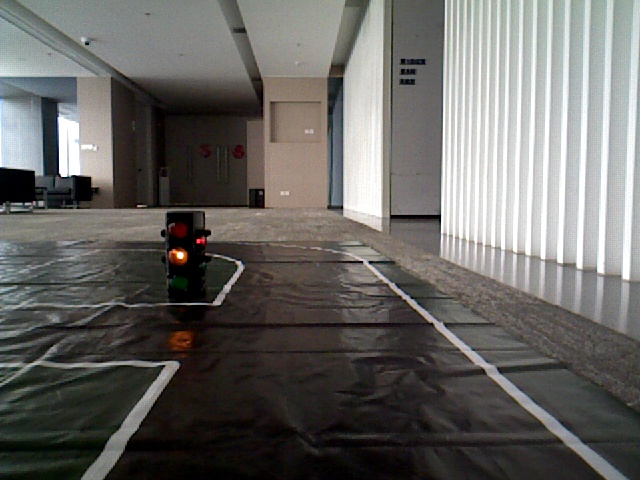yellow: (165, 213, 200, 289)
